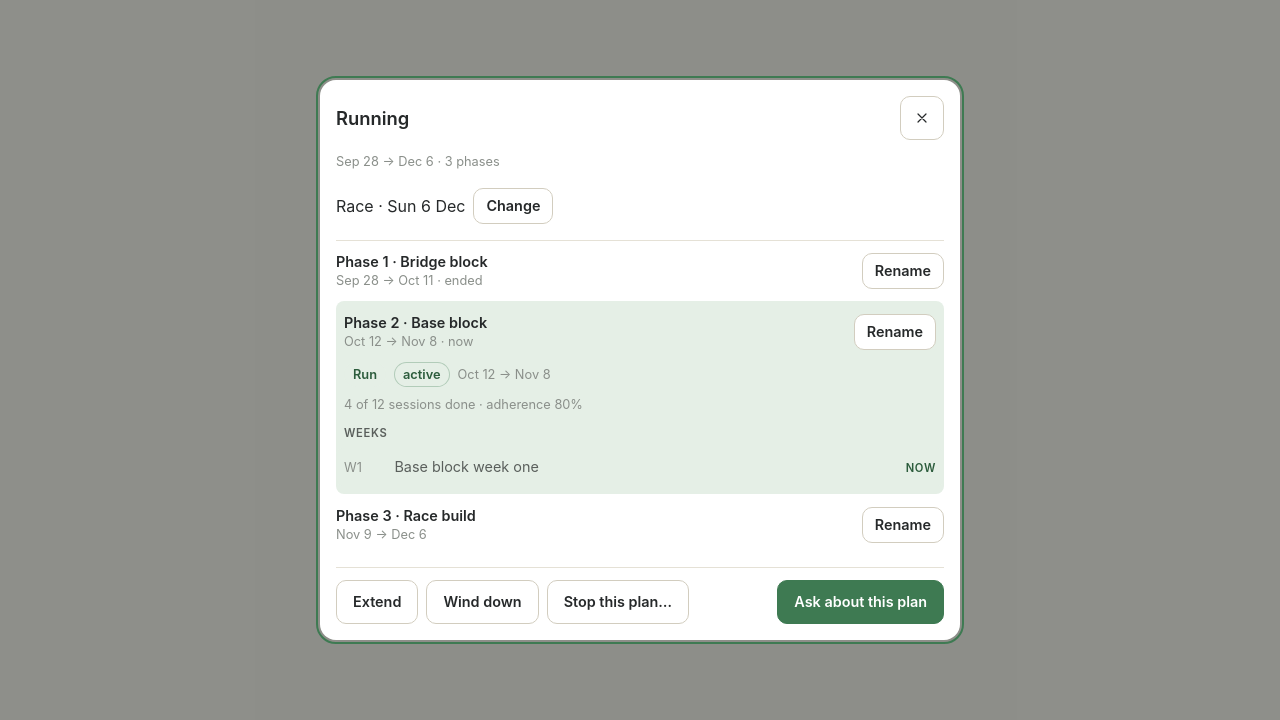
Test: Stop this plan › the focus goes to the result line, not to the page, without a scroll
Click the button "Stop this plan…" at [618, 602], box x1=547 y1=580 x2=689 y2=624
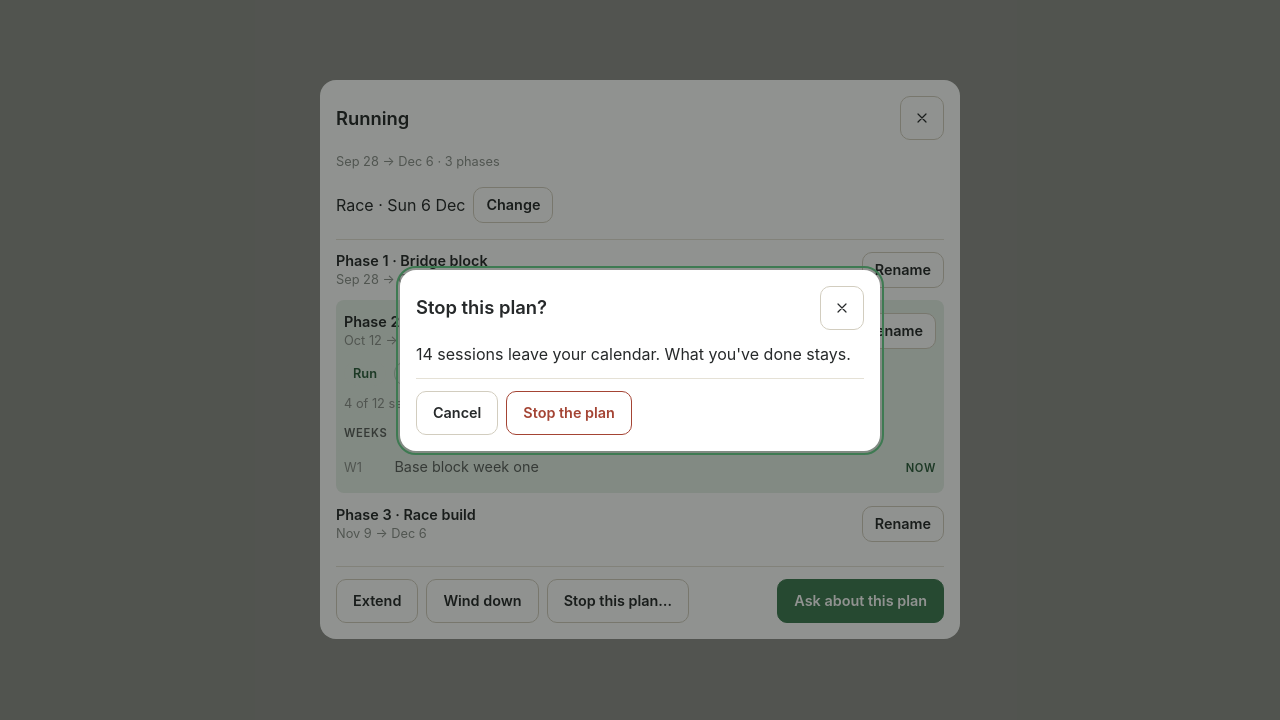
Click the button "Stop the plan" at [569, 412], box x1=506 y1=390 x2=632 y2=434
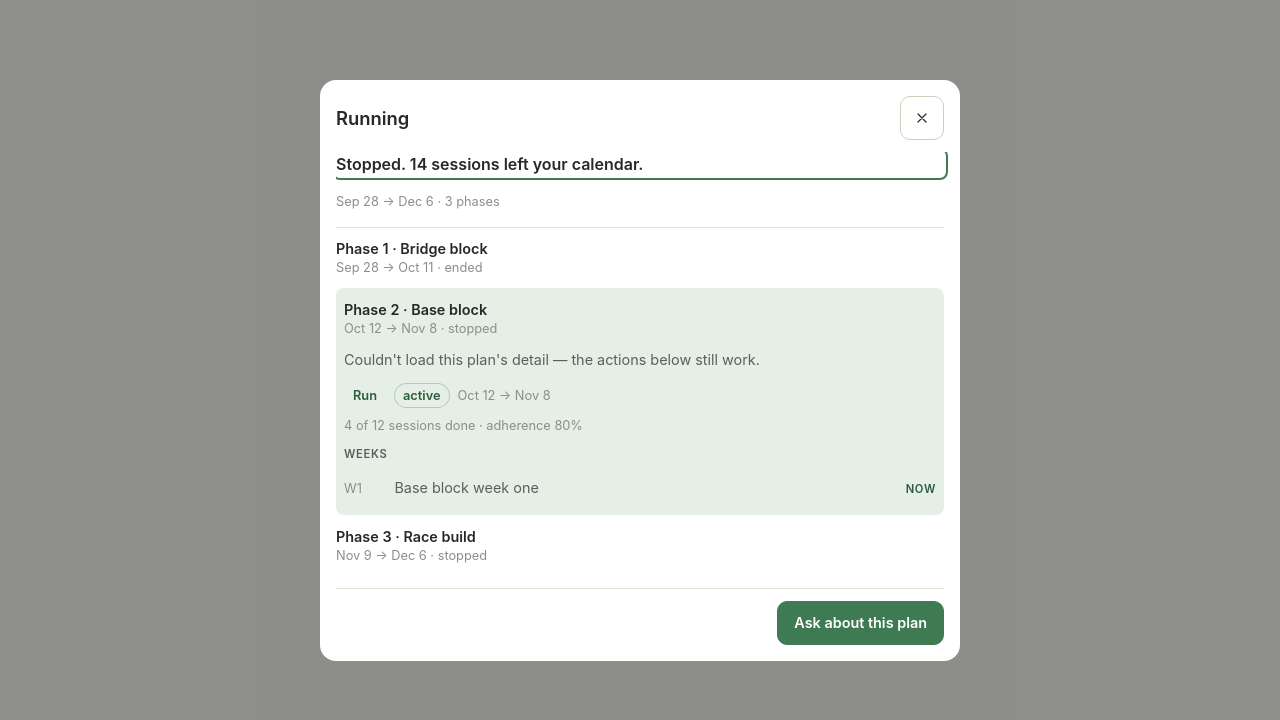
Now the message with class "line-stopped" reads "Stopped. 14 sessions left your calendar.", box x1=336 y1=154 x2=643 y2=174
